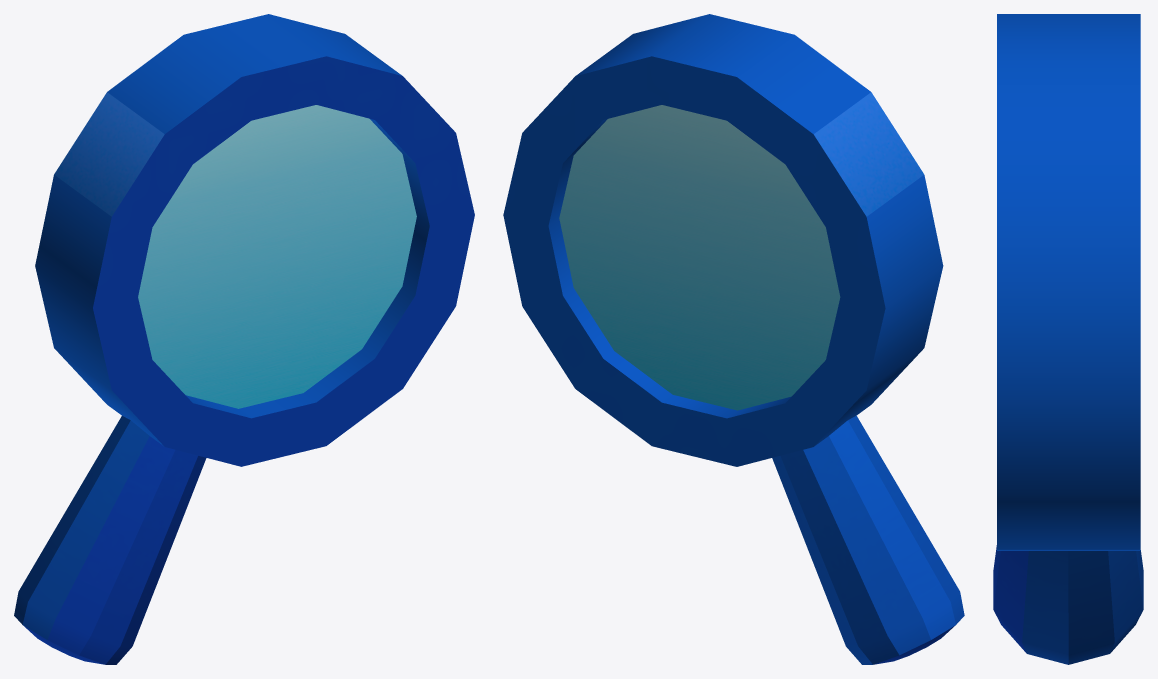
Rendered from SM_Lupa.fbx.
The picture shows the model from 3 angles, left to right: view 1: azimuth 30°, elevation 25°; view 2: azimuth 150°, elevation 25°; view 3: azimuth 270°, elevation 25°; orthographic projection. The views are drawn at different scales.
Visible parts, largest first — view 1: MSH_Lupa; view 2: MSH_Lupa; view 3: MSH_Lupa.
Boxes of the visible parts, x1,y1,x2,y2 form: MSH_Lupa: (14, 14, 474, 664); MSH_Lupa: (503, 14, 964, 664); MSH_Lupa: (993, 14, 1143, 664).
Bounding box in the file's own units: 26.05 × 33.74 × 6.42.
1 material, 1 textured.
